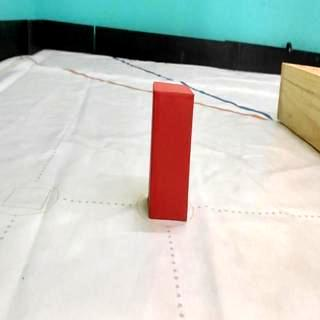redbox: (148, 80, 194, 225)
